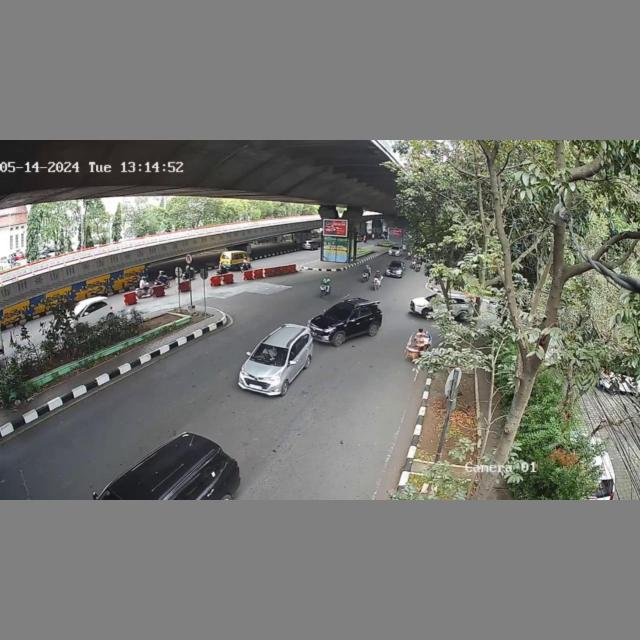windshield: (251, 342, 289, 365), (325, 304, 353, 322)
